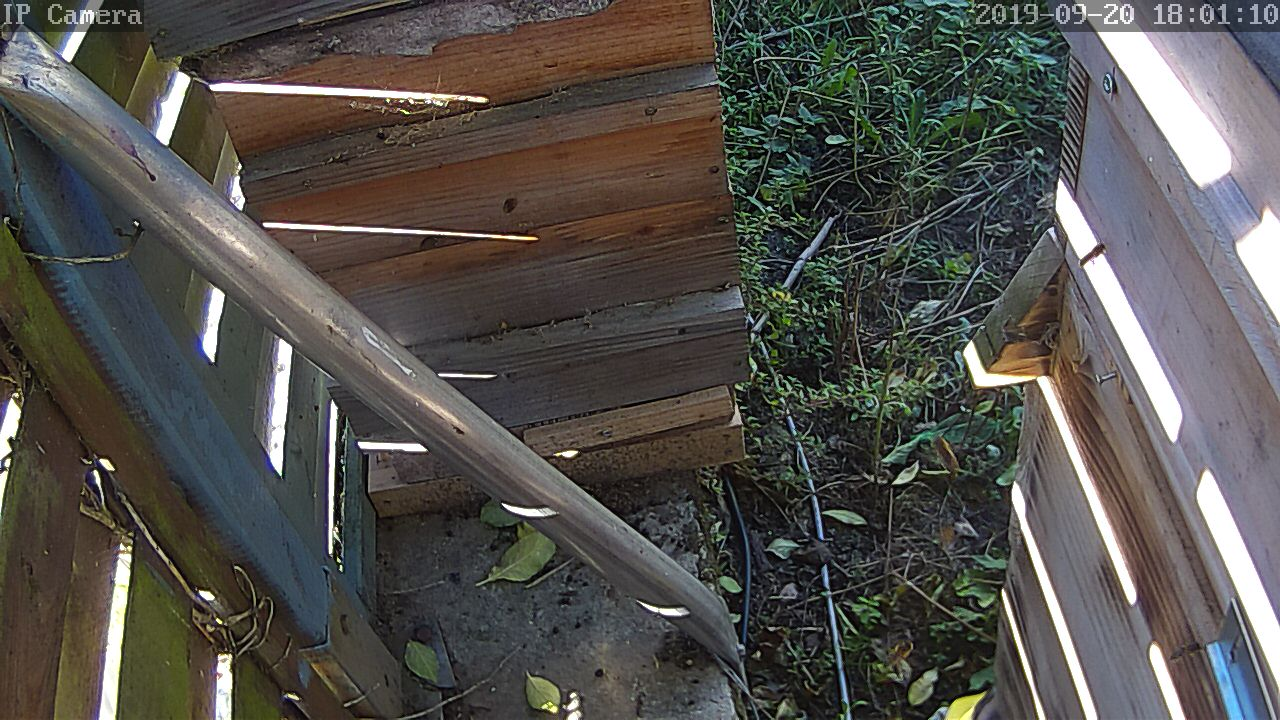hornet: (168, 0, 1232, 720), (507, 9, 1245, 642)
